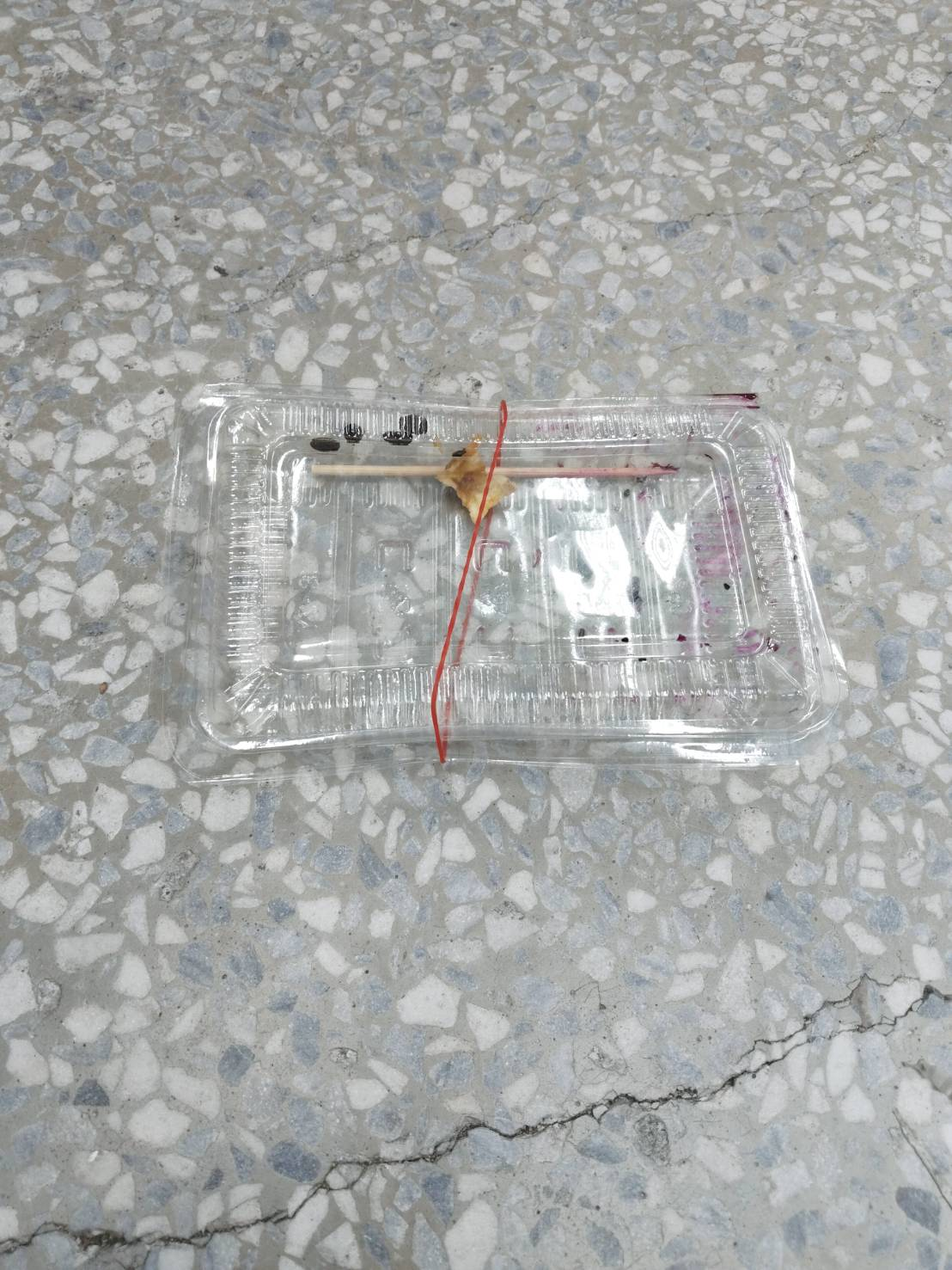plastic: (119, 293, 904, 873)
